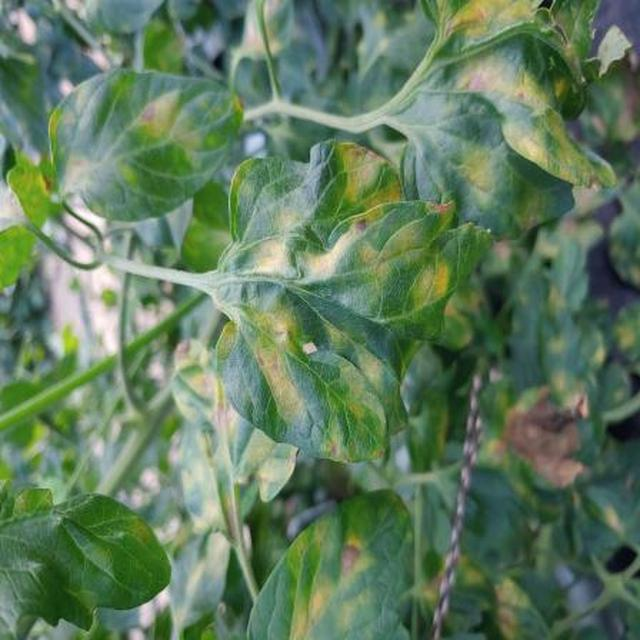Leaf Mold: (210, 173, 640, 640)
